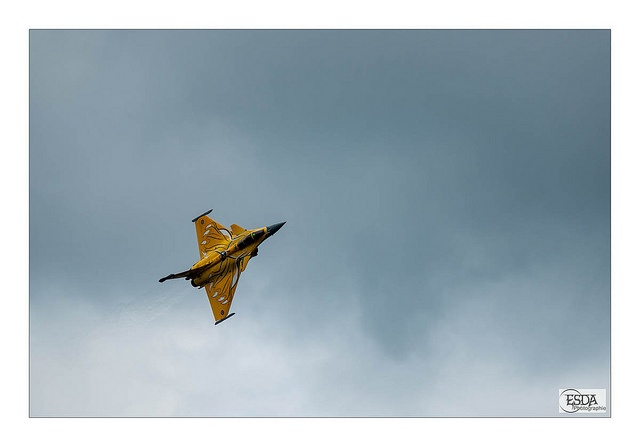airplane: (159, 209, 445, 447)
